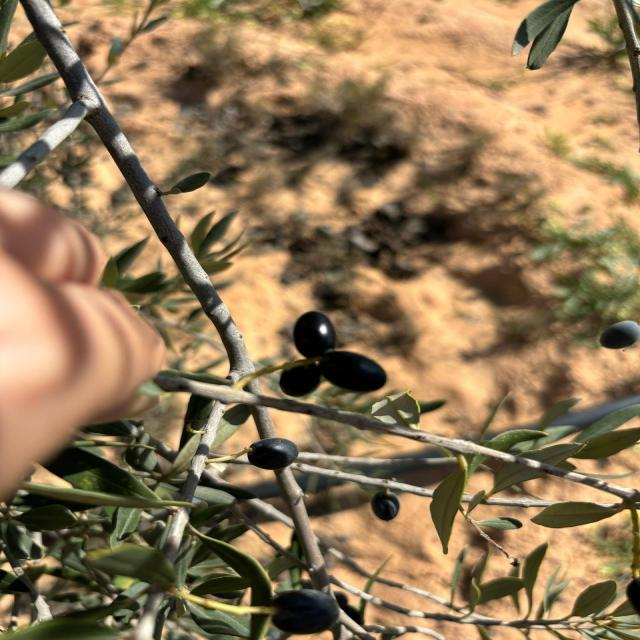Healthy: (273, 589, 339, 634), (317, 350, 387, 392), (293, 311, 337, 356), (247, 438, 298, 470), (599, 320, 639, 350)
